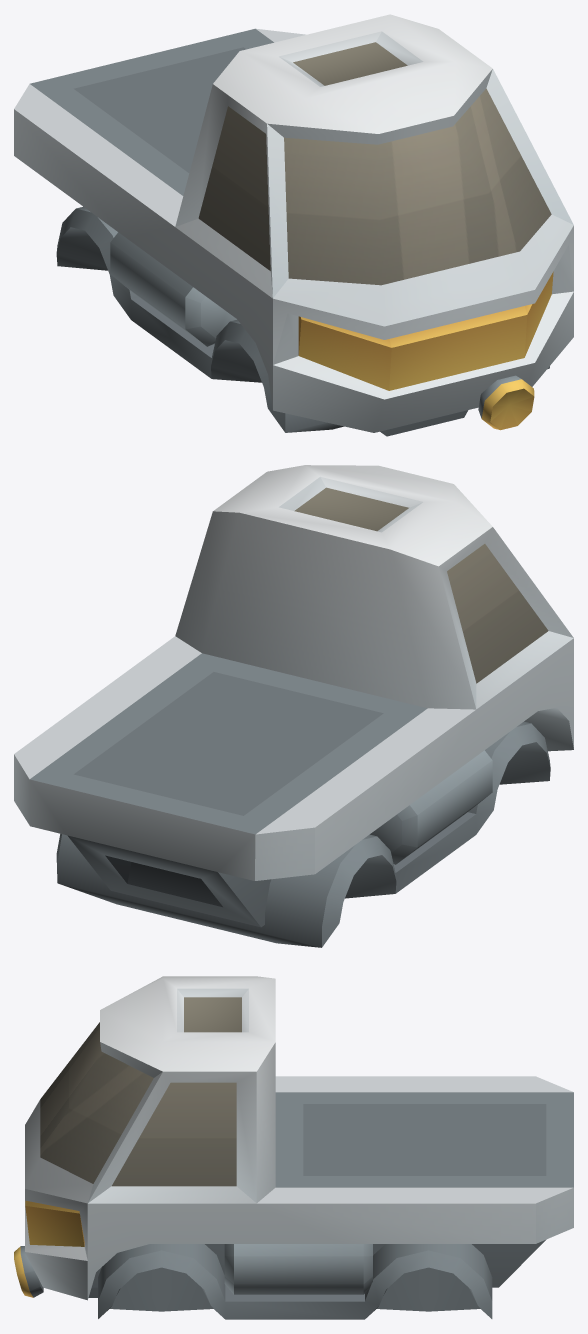
Rendered from spacetruck.obj.
3 renders of one model, top to bottom at view 1: azimuth 30°, elevation 25°; view 2: azimuth 150°, elevation 25°; view 3: azimuth 270°, elevation 25°, orthographic. The views are drawn at different scales.
Bounding box in the file's own units: 0.4895 × 0.4775 × 0.8933.
Materials: 1 (1 with a texture image).
